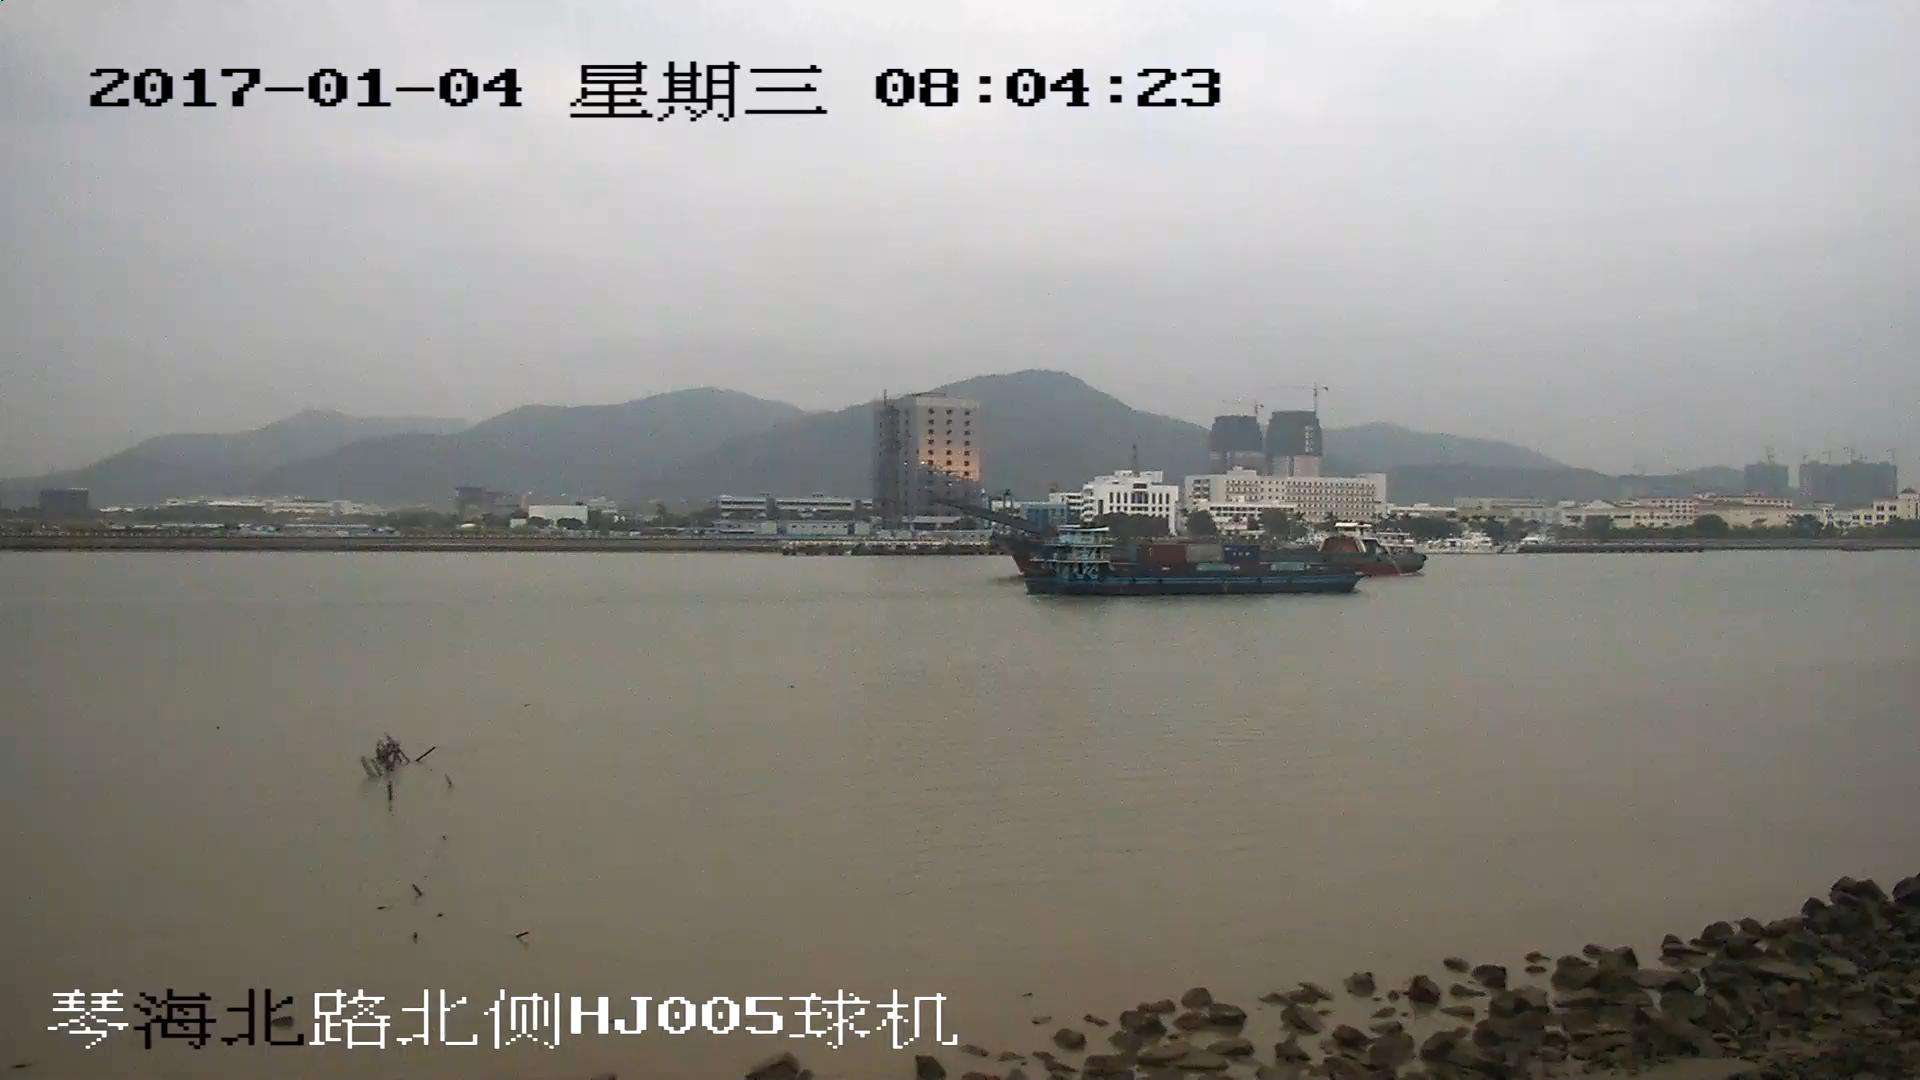Ship: (1027, 530, 1360, 589)
